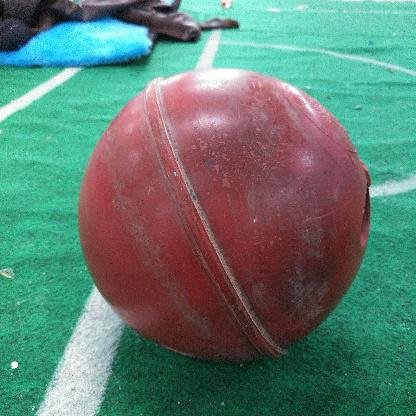red_buoy: (71, 60, 373, 366)
